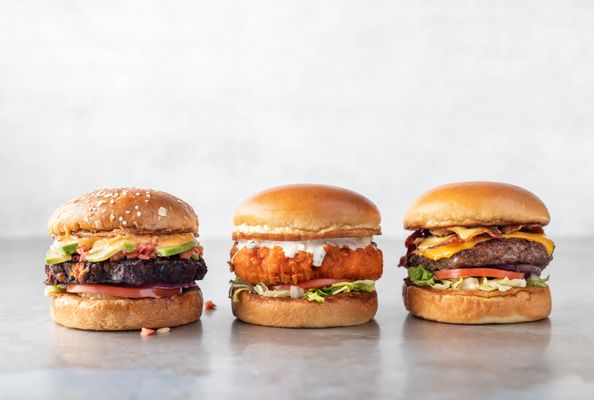soup: (42, 188, 208, 332), (227, 182, 385, 329), (400, 180, 556, 325)
